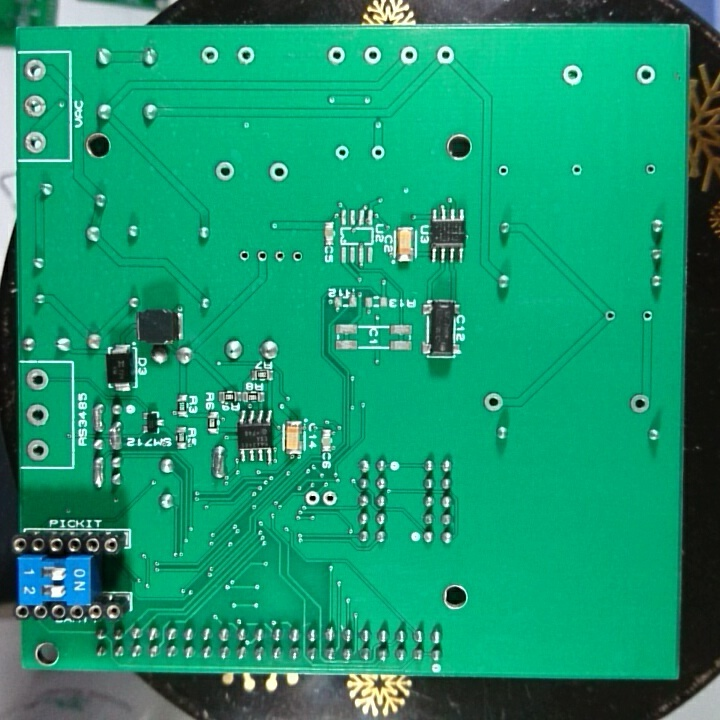F: (22, 365, 52, 393), (24, 401, 51, 429), (21, 57, 50, 83), (22, 92, 48, 120), (559, 62, 586, 88), (22, 128, 48, 155), (24, 437, 51, 463), (479, 389, 508, 413), (627, 391, 653, 416), (212, 158, 237, 184), (634, 63, 659, 88), (267, 158, 290, 185), (398, 42, 421, 68), (235, 42, 258, 68), (198, 43, 221, 69), (434, 43, 457, 68), (325, 43, 347, 68), (362, 43, 383, 68), (368, 141, 388, 165), (332, 143, 352, 165), (320, 487, 339, 509), (302, 488, 321, 509), (495, 160, 514, 181), (568, 159, 585, 181), (235, 246, 253, 266), (641, 159, 658, 180), (602, 307, 620, 326), (288, 247, 306, 266), (271, 246, 288, 266), (254, 245, 270, 266), (639, 306, 654, 326)
P: (210, 443, 229, 481), (106, 418, 125, 454), (89, 400, 107, 433), (91, 455, 106, 489)
